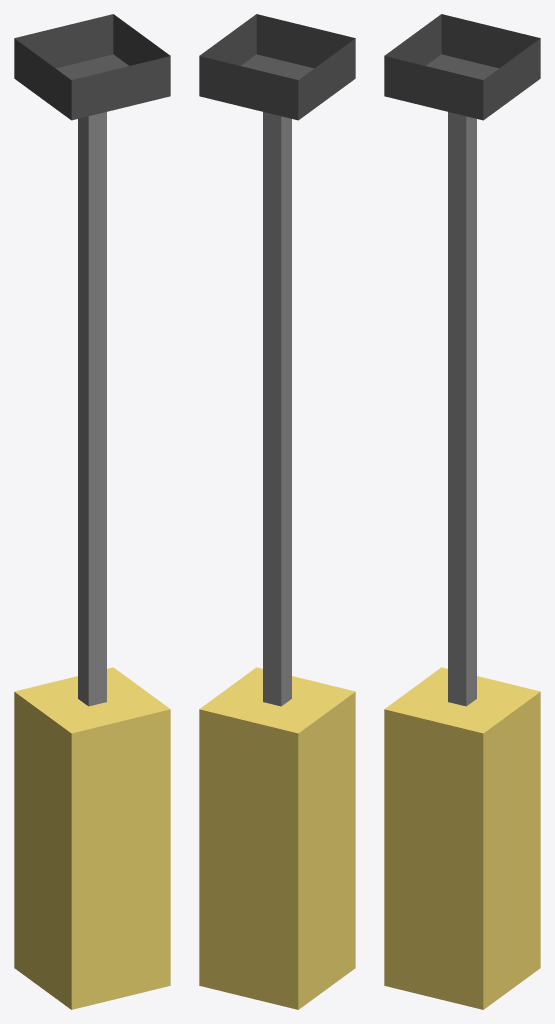
File: Chandelier_2.fbx
The picture shows the model from 3 angles, left to right: view 1: azimuth 30°, elevation 25°; view 2: azimuth 150°, elevation 25°; view 3: azimuth 330°, elevation 25°; orthographic projection.
Parts seen in each view (by area): view 1: Chandelier_2; view 2: Chandelier_2; view 3: Chandelier_2.
Boxes of the visible parts, x1,y1,x2,y2 form: Chandelier_2: (14,14,170,1009); Chandelier_2: (199,14,355,1009); Chandelier_2: (384,14,540,1009).
Size of the model in its own units: 17.18 by 17.18 by 154.
